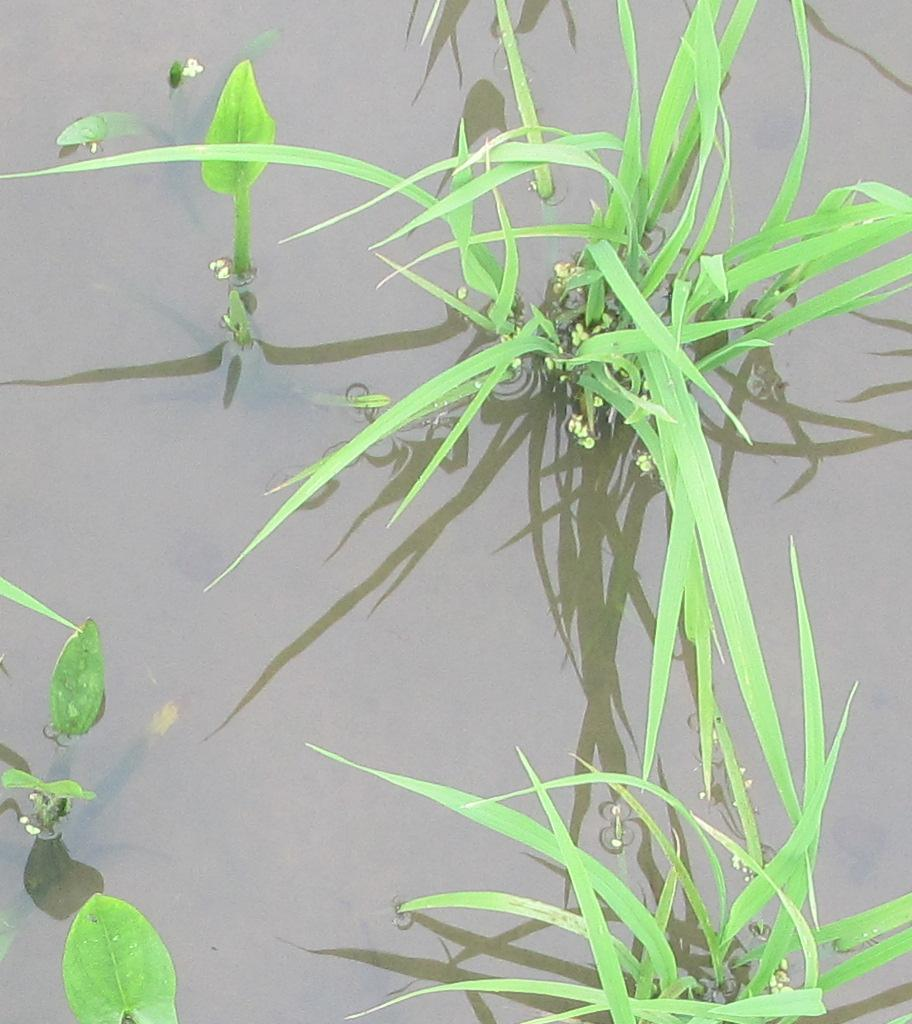Weed: (10, 611, 191, 1024), (182, 53, 271, 338)
